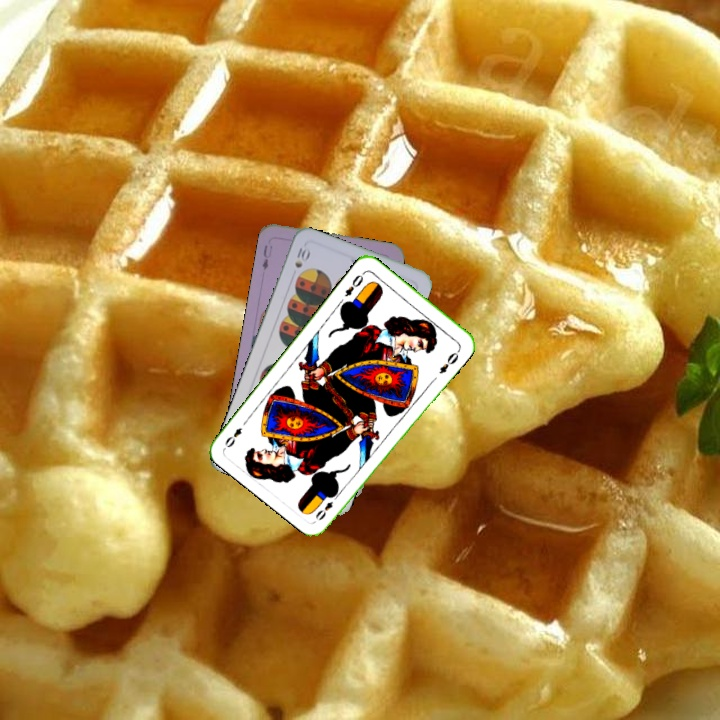EO: (340, 270, 366, 299), (311, 497, 336, 523)
EU: (258, 241, 275, 273)
S10: (291, 243, 311, 270)
